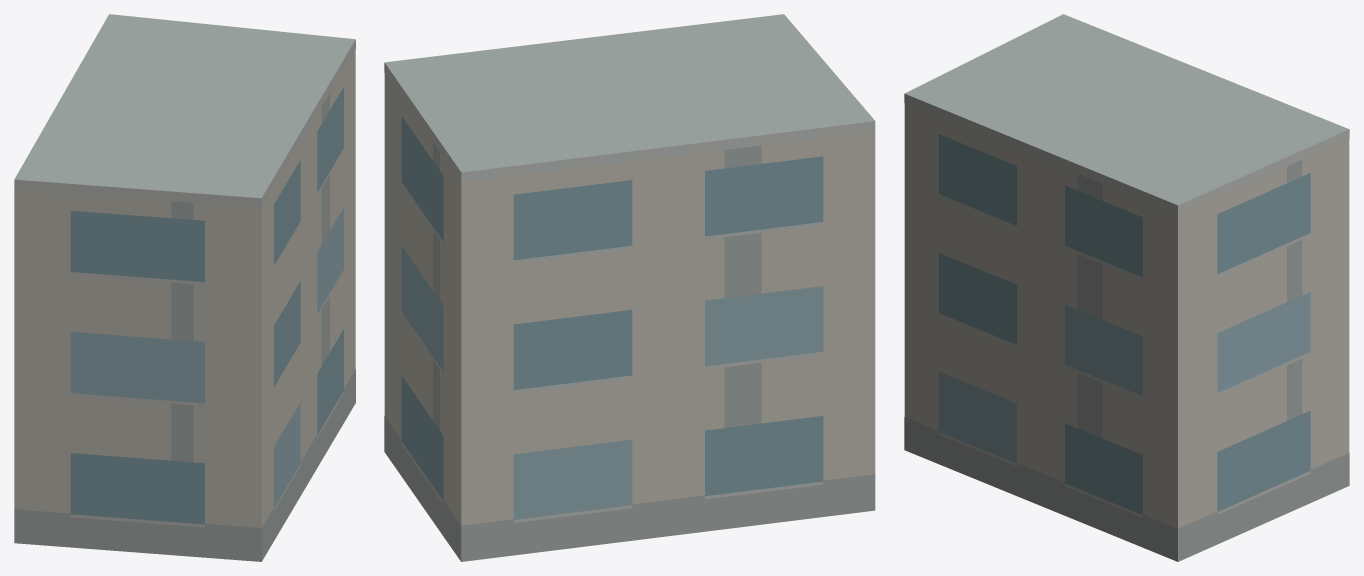
The model's file is survey-upis-32884486.glb.
The picture shows the model from 3 angles, left to right: view 1: azimuth 30°, elevation 25°; view 2: azimuth 150°, elevation 25°; view 3: azimuth 270°, elevation 25°; orthographic projection. The views are drawn at different scales.
Parts seen in each view (by area): view 1: survey-upis-32884486.tmp; view 2: survey-upis-32884486.tmp; view 3: survey-upis-32884486.tmp.
Part boxes in pixels (x1,y1,x2,y2): survey-upis-32884486.tmp: (14,14,355,561); survey-upis-32884486.tmp: (384,14,875,561); survey-upis-32884486.tmp: (904,14,1349,561).
Bounding box in the file's own units: 10.54 × 9.15 × 10.36.
